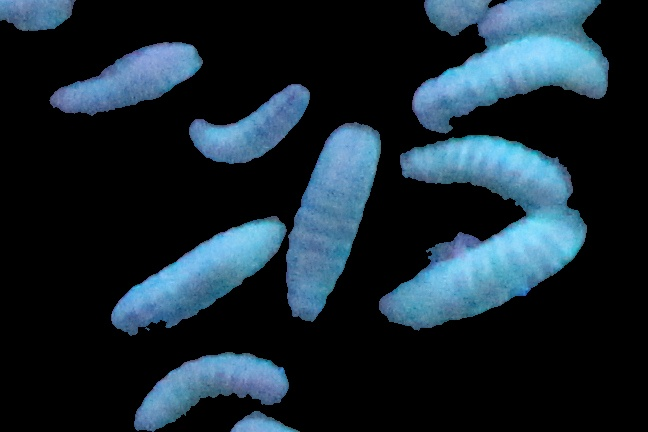larvae: (378, 205, 592, 325), (103, 219, 271, 342), (284, 117, 379, 321), (414, 37, 609, 127), (402, 134, 574, 204), (132, 356, 290, 427), (47, 41, 204, 112), (191, 84, 310, 163)
